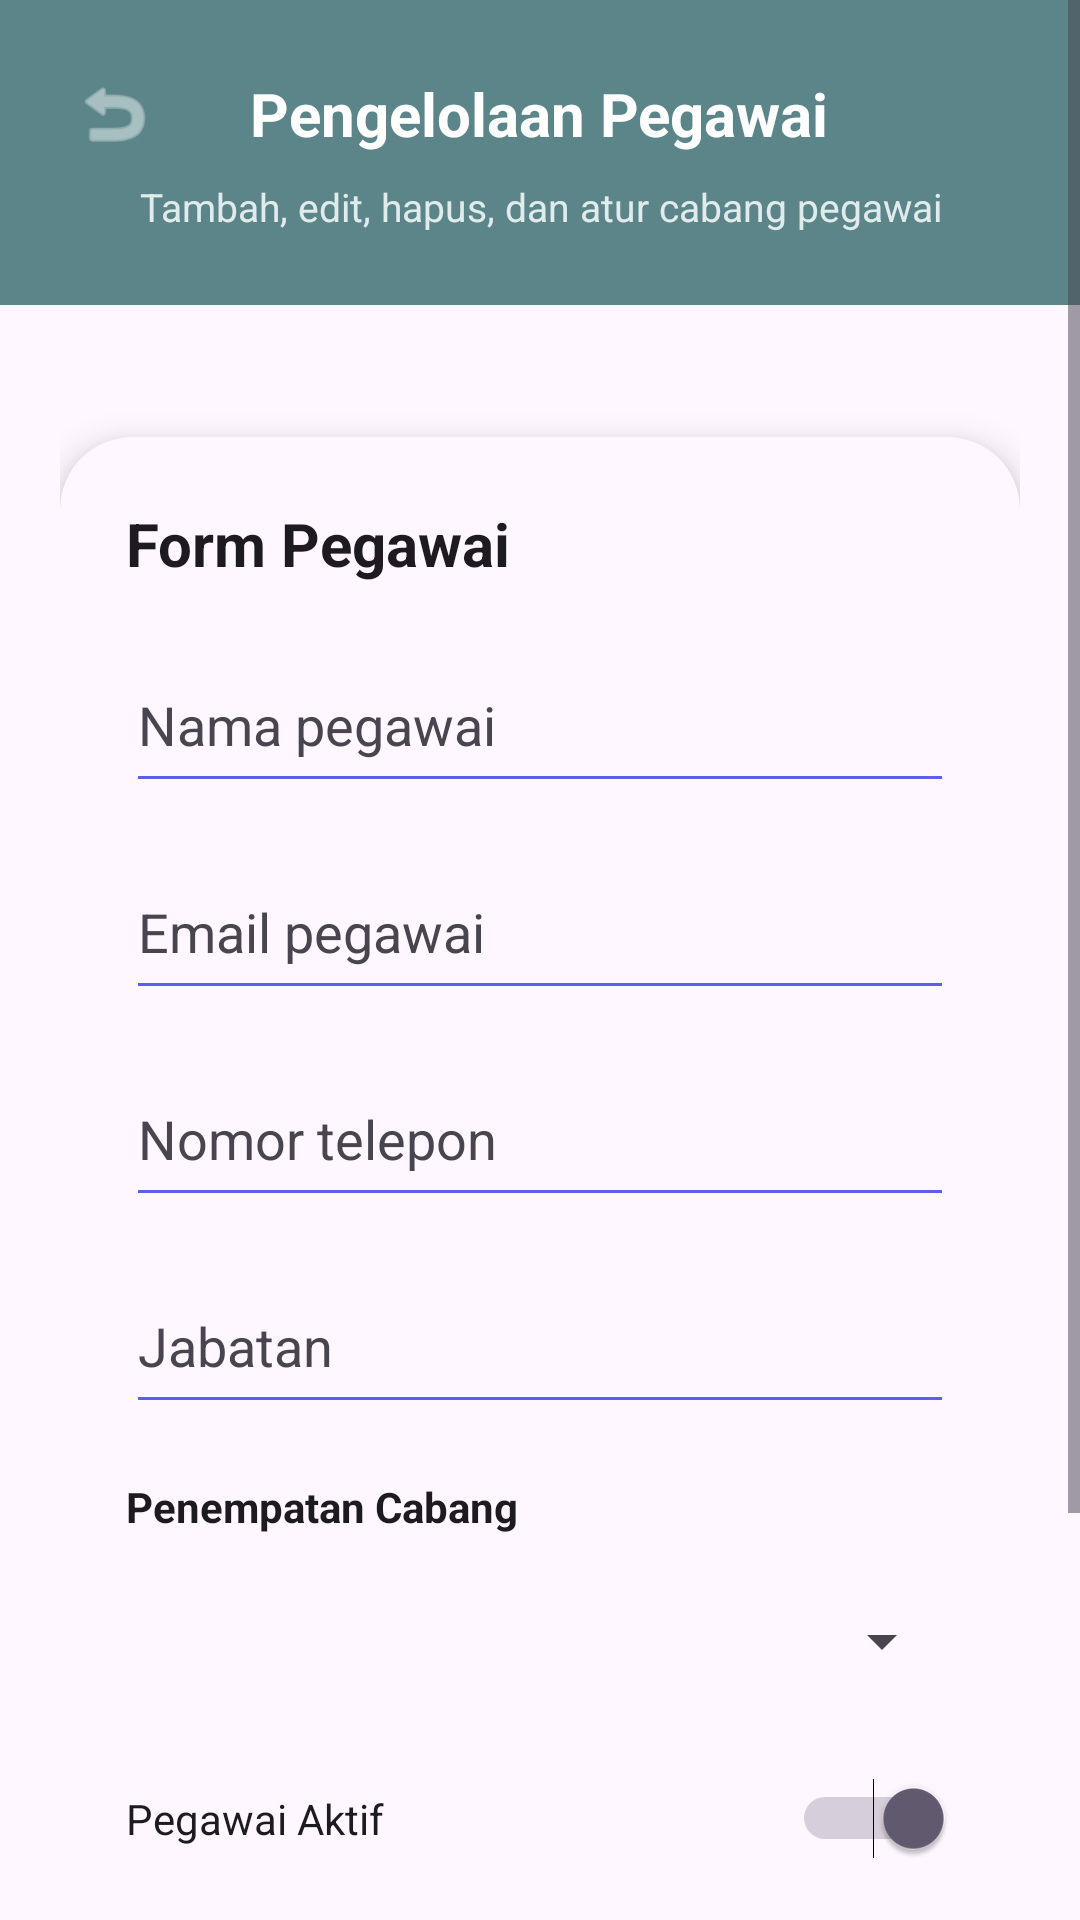

Locate icon controls on the screen. Image size 1080px x 1920px, boxes as [x1=x1, y1=y1, x2=x2, y2=y2].
revert: [x1=85, y1=88, x2=145, y2=142]
